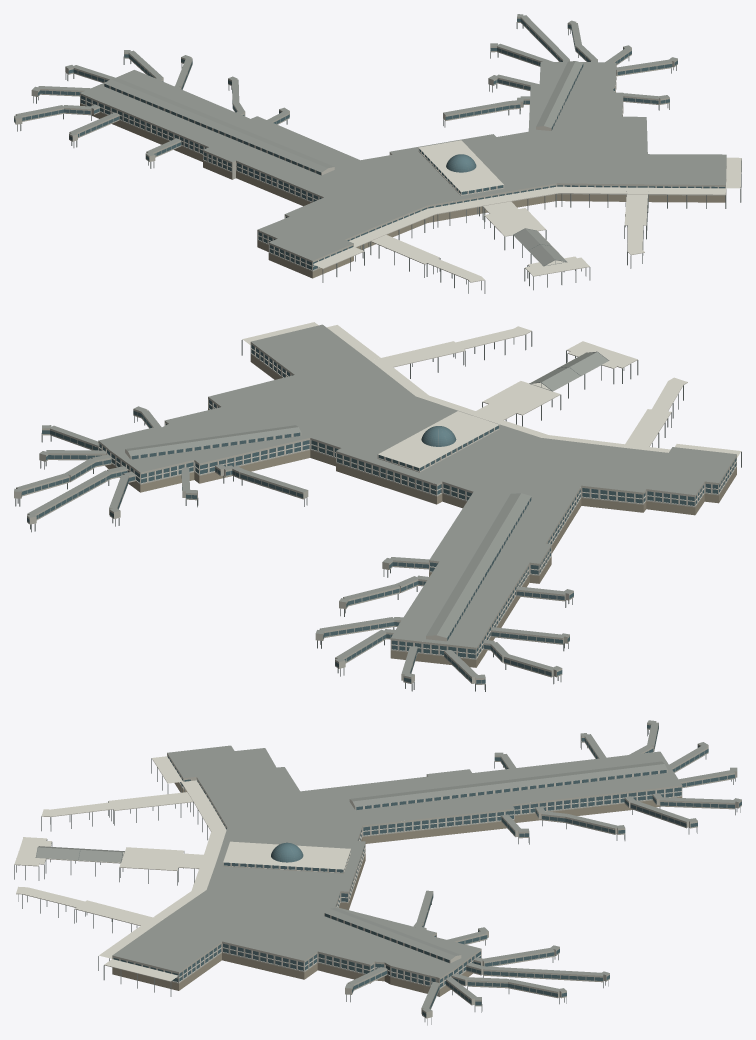
The model's file is charleston-international-airport-terminal-near.glb.
3 views of the same model, one above another, from view 1: azimuth 30°, elevation 25°; view 2: azimuth 150°, elevation 25°; view 3: azimuth 270°, elevation 25° (orthographic). The views are drawn at different scales.
Visible parts, largest first — view 1: charleston-international-airport-terminal-0-roof, charleston-international-airport-terminal-0-trim, charleston-international-airport-terminal-0-glass, charleston-international-airport-terminal-0-wall, charleston-international-airport-terminal-0-base, charleston-international-airport-terminal-0-steel; view 2: charleston-international-airport-terminal-0-roof, charleston-international-airport-terminal-0-trim, charleston-international-airport-terminal-0-glass, charleston-international-airport-terminal-0-wall, charleston-international-airport-terminal-0-base, charleston-international-airport-terminal-0-steel; view 3: charleston-international-airport-terminal-0-roof, charleston-international-airport-terminal-0-trim, charleston-international-airport-terminal-0-glass, charleston-international-airport-terminal-0-wall, charleston-international-airport-terminal-0-base, charleston-international-airport-terminal-0-steel.
Boxes of the visible parts, left/top/right/bottom form: charleston-international-airport-terminal-0-roof: left=14, top=14, right=726, bottom=265; charleston-international-airport-terminal-0-trim: left=80, top=66, right=741, bottom=282; charleston-international-airport-terminal-0-glass: left=14, top=18, right=725, bottom=269; charleston-international-airport-terminal-0-wall: left=14, top=17, right=726, bottom=271; charleston-international-airport-terminal-0-base: left=80, top=83, right=726, bottom=278; charleston-international-airport-terminal-0-steel: left=17, top=22, right=741, bottom=293; charleston-international-airport-terminal-0-roof: left=14, top=324, right=736, bottom=678; charleston-international-airport-terminal-0-trim: left=98, top=322, right=741, bottom=658; charleston-international-airport-terminal-0-glass: left=21, top=344, right=736, bottom=683; charleston-international-airport-terminal-0-wall: left=14, top=342, right=736, bottom=684; charleston-international-airport-terminal-0-base: left=105, top=354, right=736, bottom=667; charleston-international-airport-terminal-0-steel: left=15, top=331, right=741, bottom=691; charleston-international-airport-terminal-0-roof: left=36, top=720, right=741, bottom=1012; charleston-international-airport-terminal-0-trim: left=14, top=755, right=682, bottom=987; charleston-international-airport-terminal-0-glass: left=113, top=725, right=741, bottom=1016; charleston-international-airport-terminal-0-wall: left=112, top=721, right=741, bottom=1018; charleston-international-airport-terminal-0-base: left=112, top=782, right=682, bottom=996; charleston-international-airport-terminal-0-steel: left=14, top=729, right=740, bottom=1025.
Bounding box in the file's own units: 305 × 16.72 × 322.
